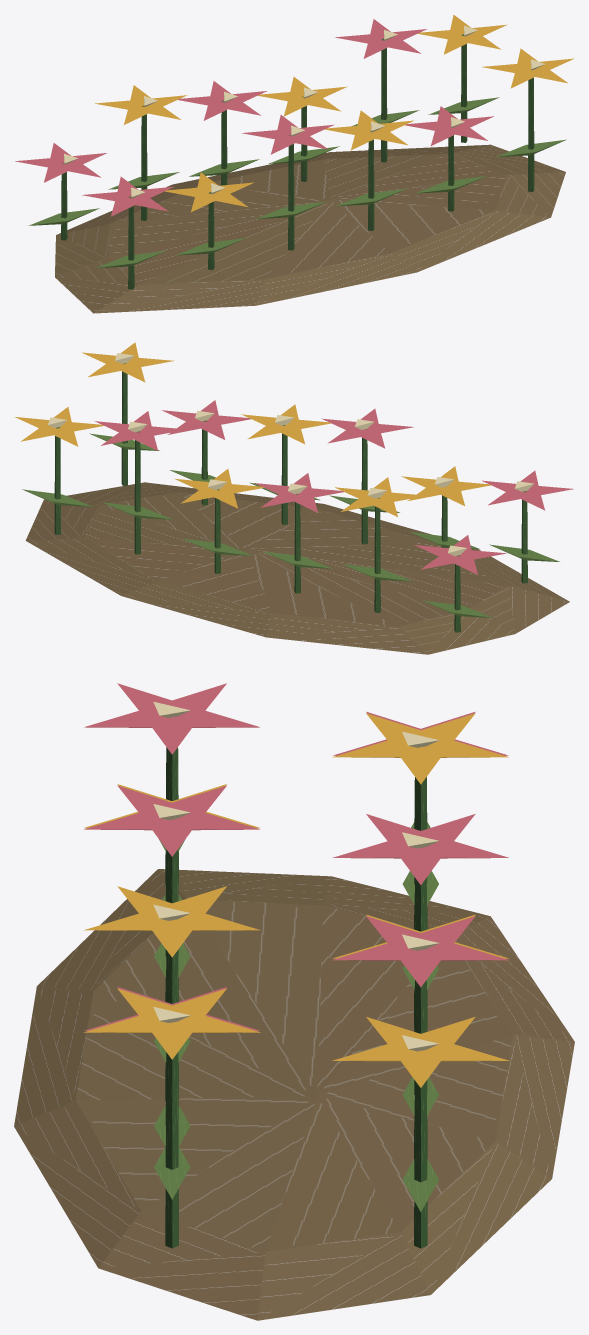
The model's file is TorusNature_FlowersA.obj.
The picture shows the model from 3 angles, top to bottom: view 1: azimuth 30°, elevation 25°; view 2: azimuth 150°, elevation 25°; view 3: azimuth 270°, elevation 25°; orthographic projection. The views are drawn at different scales.
Visible parts, largest first — view 1: TorusNature_FlowersA; view 2: TorusNature_FlowersA; view 3: TorusNature_FlowersA.
Part boxes in pixels (x1=…): TorusNature_FlowersA: x1=15, y1=15, x2=573, y2=313; TorusNature_FlowersA: x1=15, y1=342, x2=573, y2=654; TorusNature_FlowersA: x1=14, y1=683, x2=574, y2=1320.
Size of the model in its own units: 0.6558 by 0.1838 by 0.3441.
Materials: 1 (1 with a texture image).
